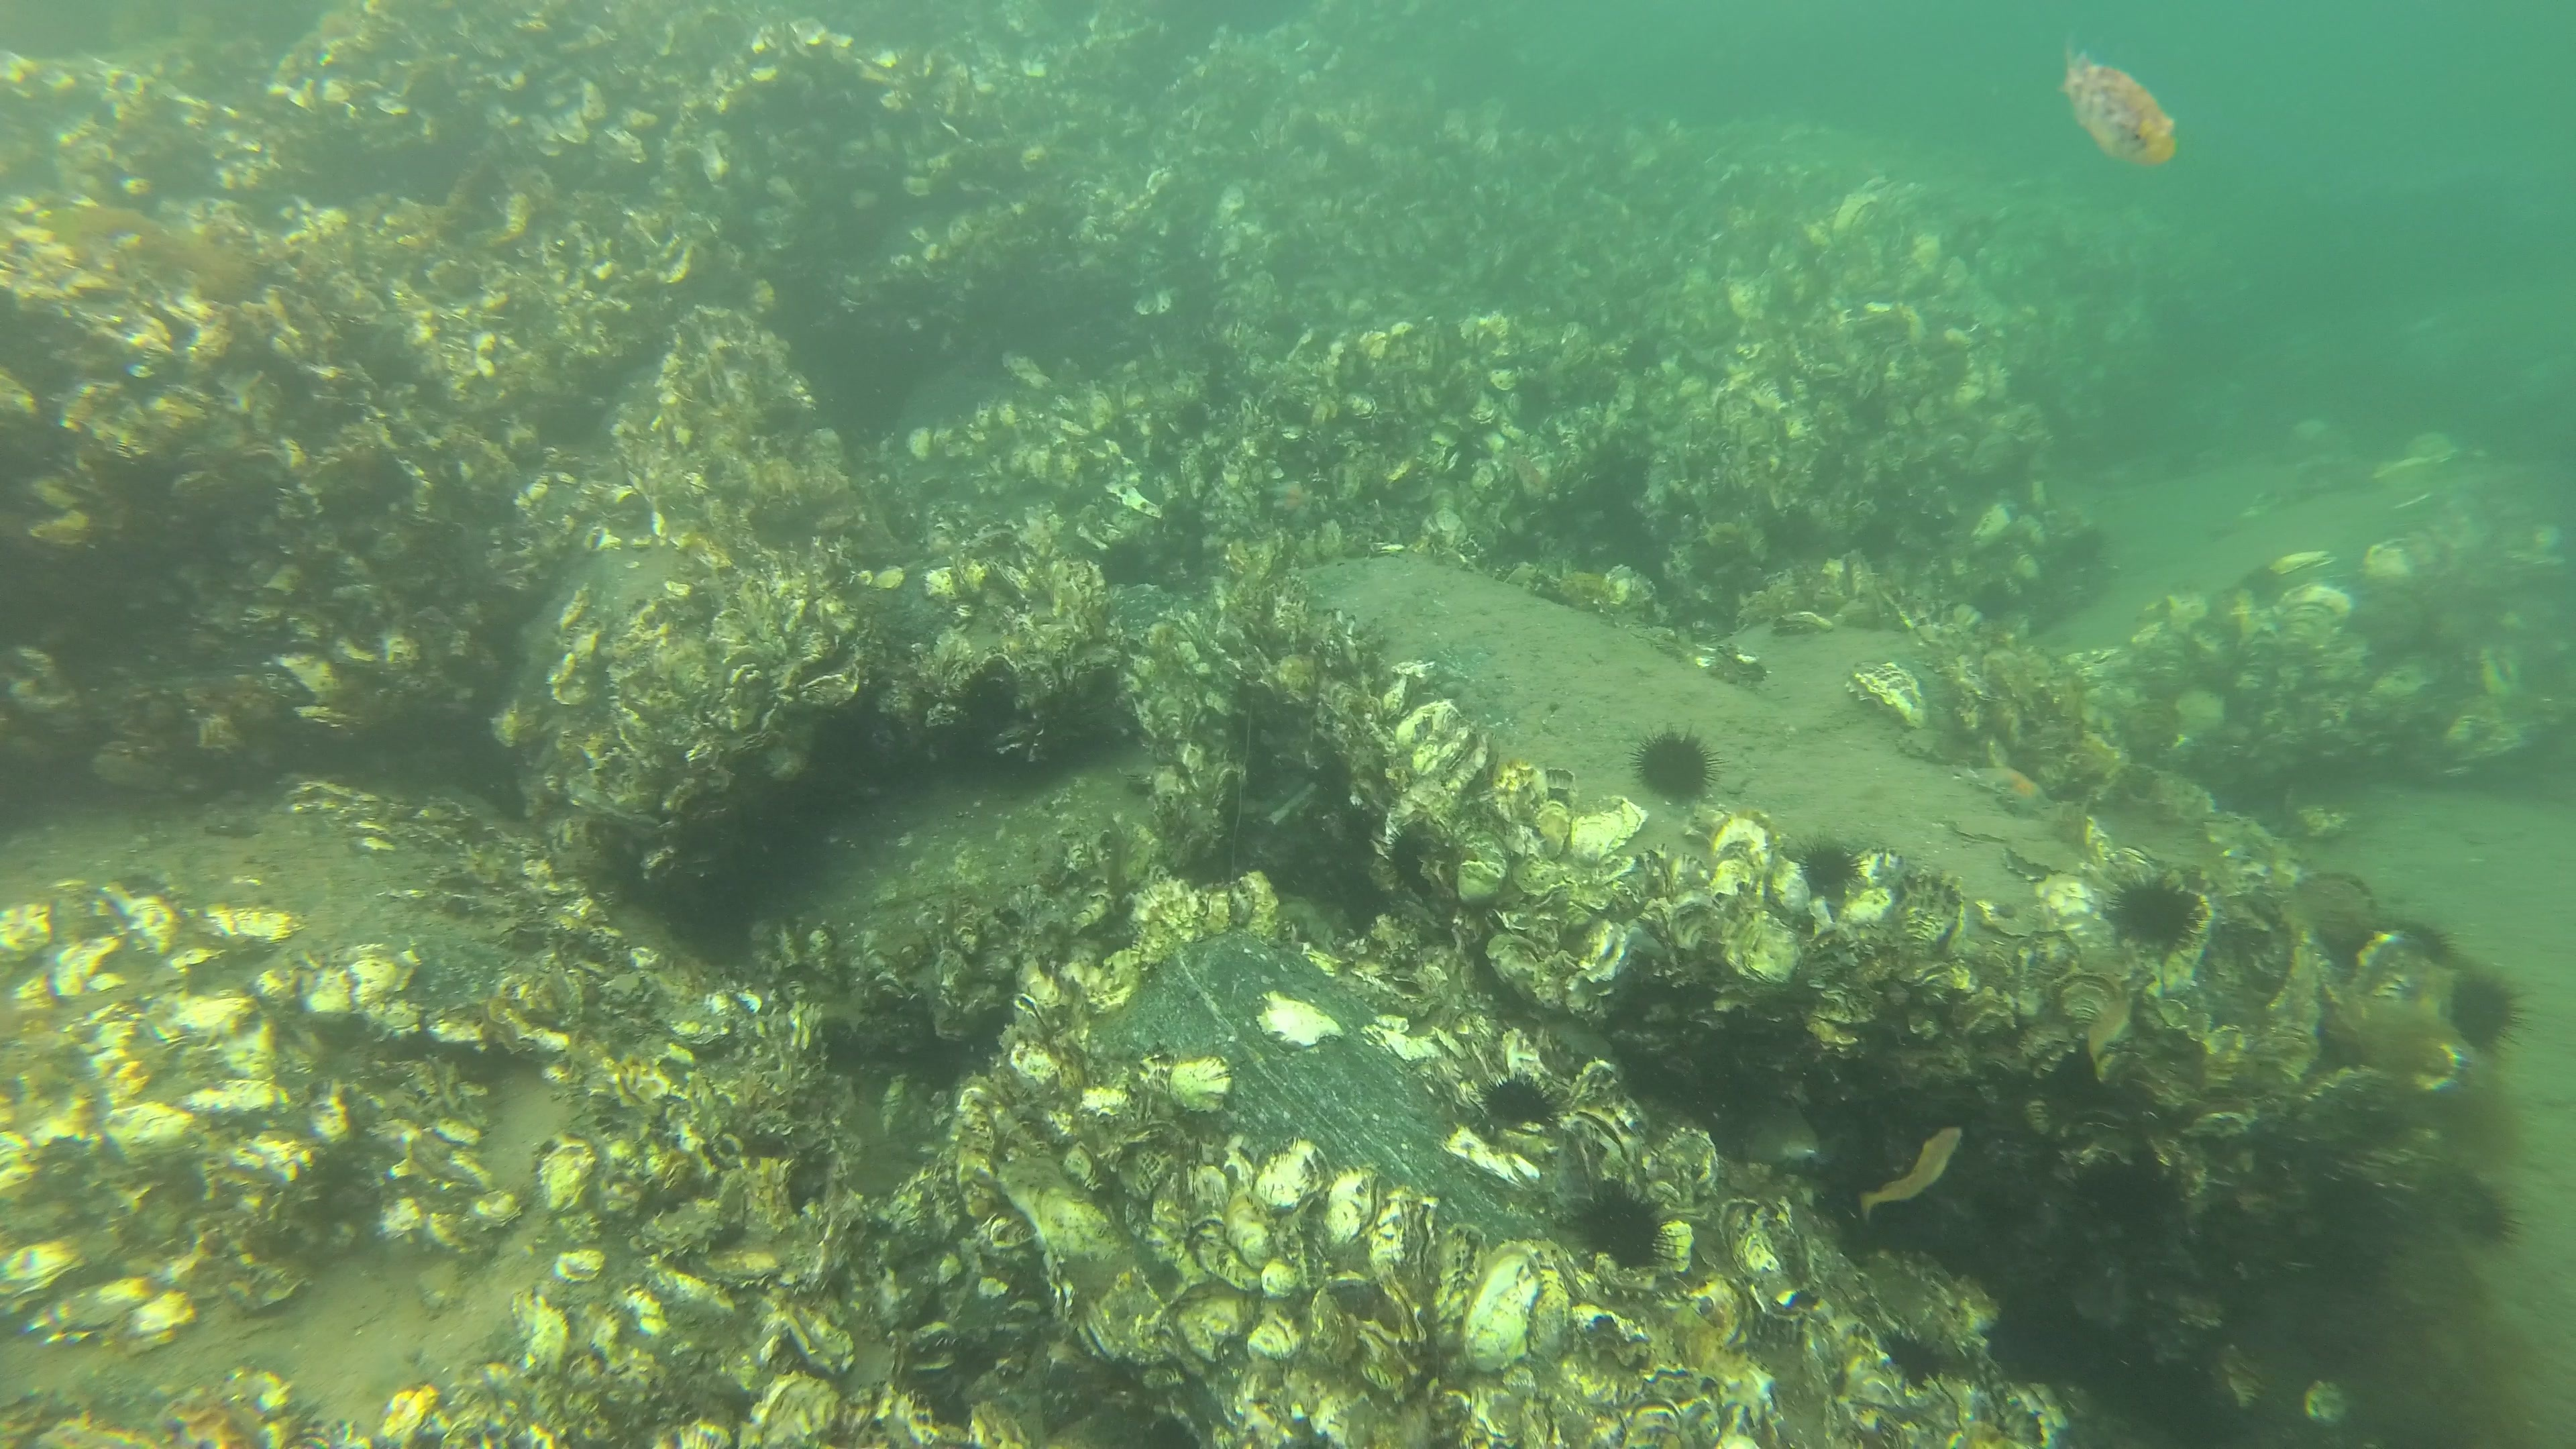echinus: (1576, 1169, 1677, 1279), (2440, 955, 2537, 1063), (2107, 872, 2212, 955), (1631, 718, 1723, 809), (1474, 1065, 1575, 1134), (1380, 816, 1445, 902), (1792, 830, 1867, 906)
starfish: (1966, 755, 2059, 821), (1263, 472, 1320, 531)
